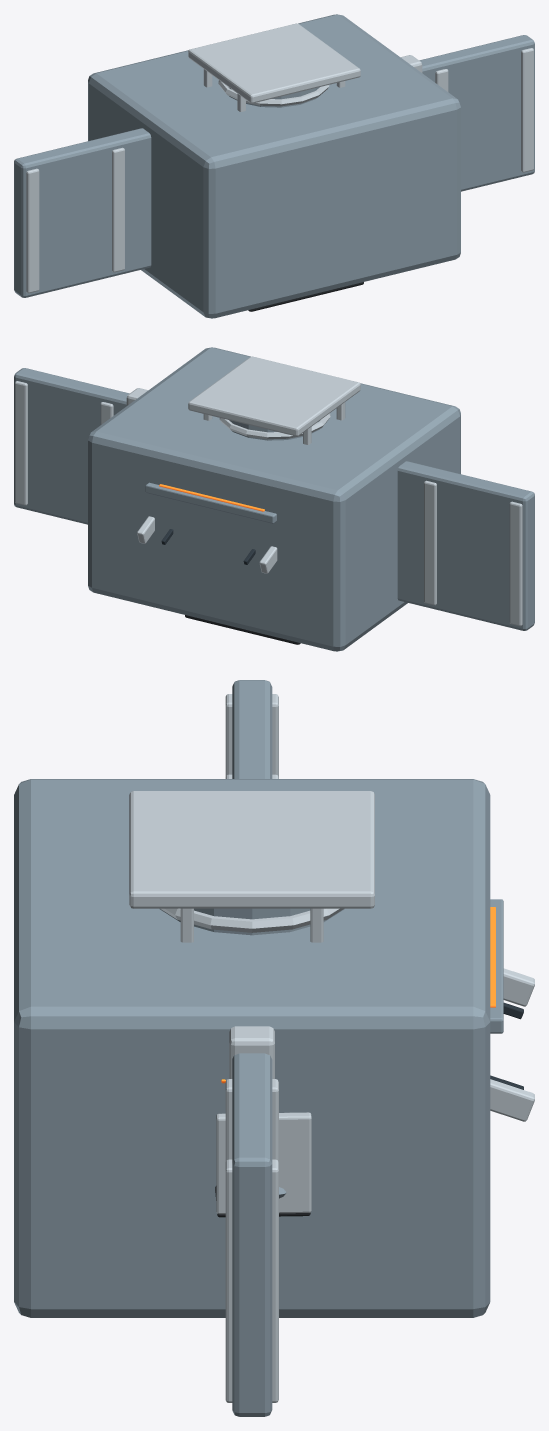
File: zap-map-sci-fi-kit-47.glb
The picture shows the model from 3 angles, top to bottom: view 1: azimuth 30°, elevation 25°; view 2: azimuth 150°, elevation 25°; view 3: azimuth 270°, elevation 25°; orthographic projection. The views are drawn at different scales.
Visible parts, largest first — view 1: KIT_Base_Module, KIT_Wall_12m, KIT_Reactor_Housing, KIT_Wall_8m; view 2: KIT_Base_Module, KIT_Wall_12m, KIT_Reactor_Housing, KIT_Wall_8m, KIT_Ramp; view 3: KIT_Base_Module, KIT_Reactor_Housing, KIT_Wall_12m, KIT_SciFi_Sandbag, KIT_Ramp, KIT_Wall_8m, KIT_Door_Frame.
Part boxes in pixels (x1,y1,x2,y2): KIT_Base_Module: (88,14,460,318); KIT_Wall_12m: (14,35,534,297); KIT_Reactor_Housing: (188,23,363,311); KIT_Wall_8m: (102,56,448,276); KIT_Base_Module: (88,347,460,651); KIT_Wall_12m: (14,368,534,630); KIT_Reactor_Housing: (185,356,360,644); KIT_Wall_8m: (100,389,446,609); KIT_Ramp: (137,482,277,573); KIT_Base_Module: (14,779,490,1317); KIT_Reactor_Housing: (129,791,374,942); KIT_Wall_12m: (225,680,278,1416); KIT_SciFi_Sandbag: (215,1112,311,1217); KIT_Ramp: (490,899,534,1121); KIT_Wall_8m: (225,761,278,1161); KIT_Door_Frame: (221,1026,274,1083).
Size of the model in its own units: 12 by 4.82 by 5.47.
